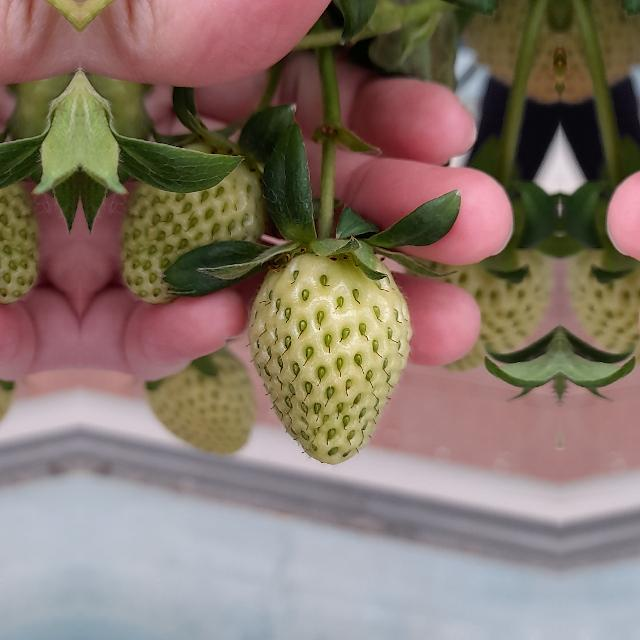Health_25: (248, 252, 412, 463), (122, 137, 262, 303), (0, 137, 37, 303)
